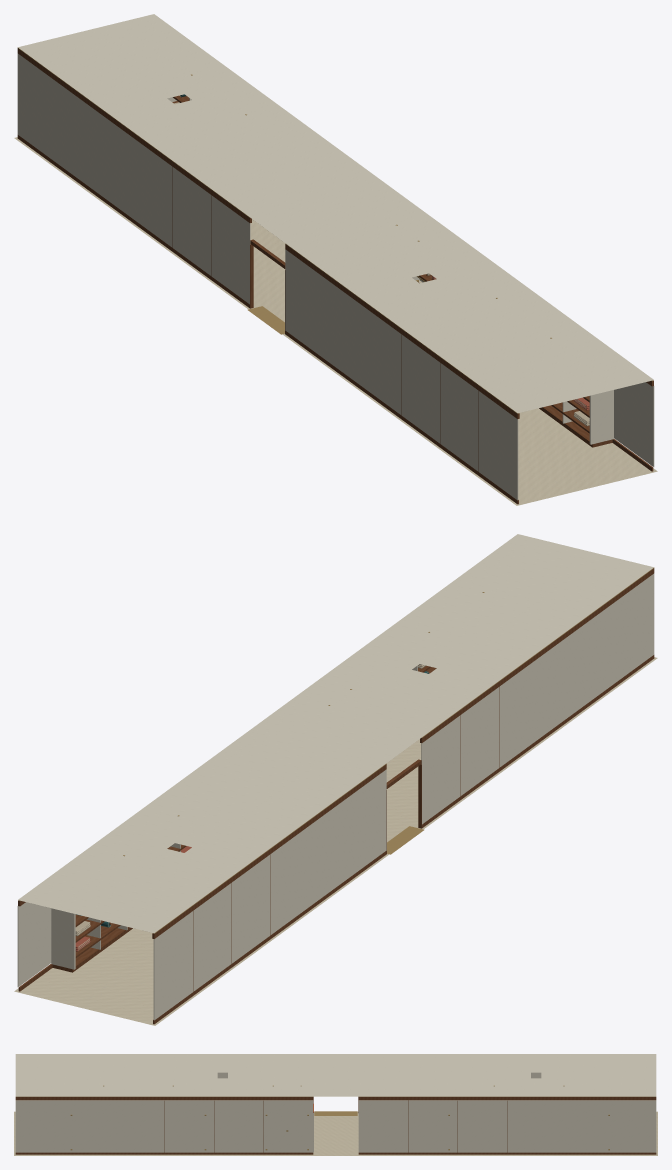
The model's file is thread_stock_repair_r005.glb.
The picture shows the model from 3 angles, top to bottom: view 1: azimuth 30°, elevation 25°; view 2: azimuth 150°, elevation 25°; view 3: azimuth 270°, elevation 25°; orthographic projection. The views are drawn at different scales.
Parts seen in each view (by area): view 1: Group5VisualFinish_ThreadCeiling, Group5VisualFinish_WestWall_-214.2, Group5VisualFinish_WestWall_-233.9, Group5VisualFinish_ThreadStoneFloor, Group5VisualFinish_EastWall_-214.2, West_CeilingCove_-214.2, West_CeilingCove_-233.9, TextileReserve_side_-200.0, West_Skirting_-214.2, West_Skirting_-233.9; view 2: Group5VisualFinish_ThreadCeiling, Group5VisualFinish_WestWall_-233.9, Group5VisualFinish_WestWall_-214.2, Group5VisualFinish_ThreadStoneFloor, Group5VisualFinish_EastWall_-233.9, TextileStock_side_-231.5, West_CeilingCove_-233.9, West_CeilingCove_-214.2, West_Skirting_-233.9, West_Skirting_-214.2; view 3: Group5VisualFinish_ThreadCeiling, Group5VisualFinish_EastWall_-233.9, Group5VisualFinish_EastWall_-214.2, Group5VisualFinish_ThreadStoneFloor, East_CeilingCove_-214.2, East_CeilingCove_-233.9, East_Skirting_-214.2, East_Skirting_-233.9, East_CoveReveal_-214.2, East_CoveReveal_-233.9, Group5VisualFinish_ServiceThreshold.
Part boxes in pixels (x1=…): Group5VisualFinish_ThreadCeiling: x1=18, y1=14, x2=653, y2=413; Group5VisualFinish_WestWall_-214.2: x1=285, y1=249, x2=518, y2=500; Group5VisualFinish_WestWall_-233.9: x1=17, y1=53, x2=250, y2=304; Group5VisualFinish_ThreadStoneFloor: x1=14, y1=137, x2=657, y2=505; Group5VisualFinish_EastWall_-214.2: x1=614, y1=382, x2=654, y2=466; West_CeilingCove_-214.2: x1=285, y1=244, x2=519, y2=418; West_CeilingCove_-233.9: x1=17, y1=48, x2=251, y2=222; TextileReserve_side_-200.0: x1=589, y1=390, x2=613, y2=444; West_Skirting_-214.2: x1=285, y1=331, x2=518, y2=504; West_Skirting_-233.9: x1=17, y1=135, x2=249, y2=308; Group5VisualFinish_ThreadCeiling: x1=18, y1=534, x2=653, y2=933; Group5VisualFinish_WestWall_-233.9: x1=153, y1=769, x2=386, y2=1020; Group5VisualFinish_WestWall_-214.2: x1=421, y1=573, x2=654, y2=824; Group5VisualFinish_ThreadStoneFloor: x1=14, y1=657, x2=657, y2=1025; Group5VisualFinish_EastWall_-233.9: x1=17, y1=902, x2=51, y2=986; TextileStock_side_-231.5: x1=51, y1=908, x2=75, y2=969; West_CeilingCove_-233.9: x1=152, y1=764, x2=386, y2=938; West_CeilingCove_-214.2: x1=420, y1=568, x2=654, y2=742; West_Skirting_-233.9: x1=153, y1=851, x2=386, y2=1024; West_Skirting_-214.2: x1=422, y1=655, x2=654, y2=828; Group5VisualFinish_ThreadCeiling: x1=15, y1=1054, x2=656, y2=1096; Group5VisualFinish_EastWall_-233.9: x1=358, y1=1100, x2=656, y2=1152; Group5VisualFinish_EastWall_-214.2: x1=15, y1=1100, x2=313, y2=1152; Group5VisualFinish_ThreadStoneFloor: x1=14, y1=1111, x2=657, y2=1155; East_CeilingCove_-214.2: x1=15, y1=1097, x2=313, y2=1100; East_CeilingCove_-233.9: x1=358, y1=1097, x2=656, y2=1100; East_Skirting_-214.2: x1=15, y1=1152, x2=313, y2=1154; East_Skirting_-233.9: x1=358, y1=1152, x2=656, y2=1154; East_CoveReveal_-214.2: x1=16, y1=1096, x2=312, y2=1096; East_CoveReveal_-233.9: x1=359, y1=1096, x2=655, y2=1096; Group5VisualFinish_ServiceThreshold: x1=314, y1=1111, x2=357, y2=1115.
Bounding box in the file's own units: 6.05 × 3.7 × 37.
Materials: 10 (10 with a texture image).
